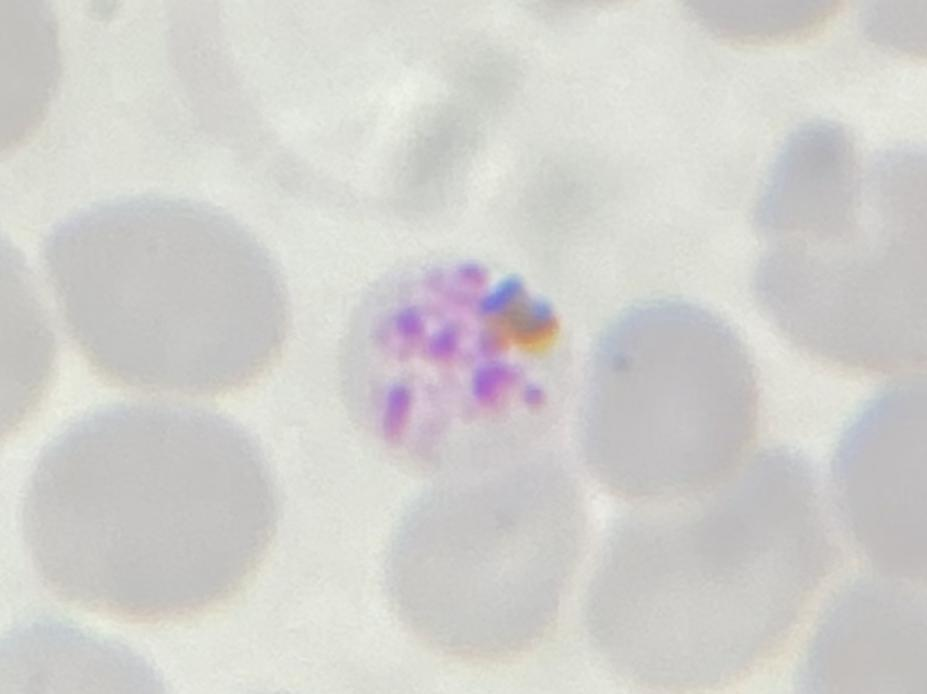Infected: (340, 254, 567, 477)
Uninfected: (593, 447, 848, 685), (22, 402, 276, 623), (45, 194, 288, 400), (750, 124, 927, 378), (382, 452, 584, 659), (577, 296, 763, 493)
